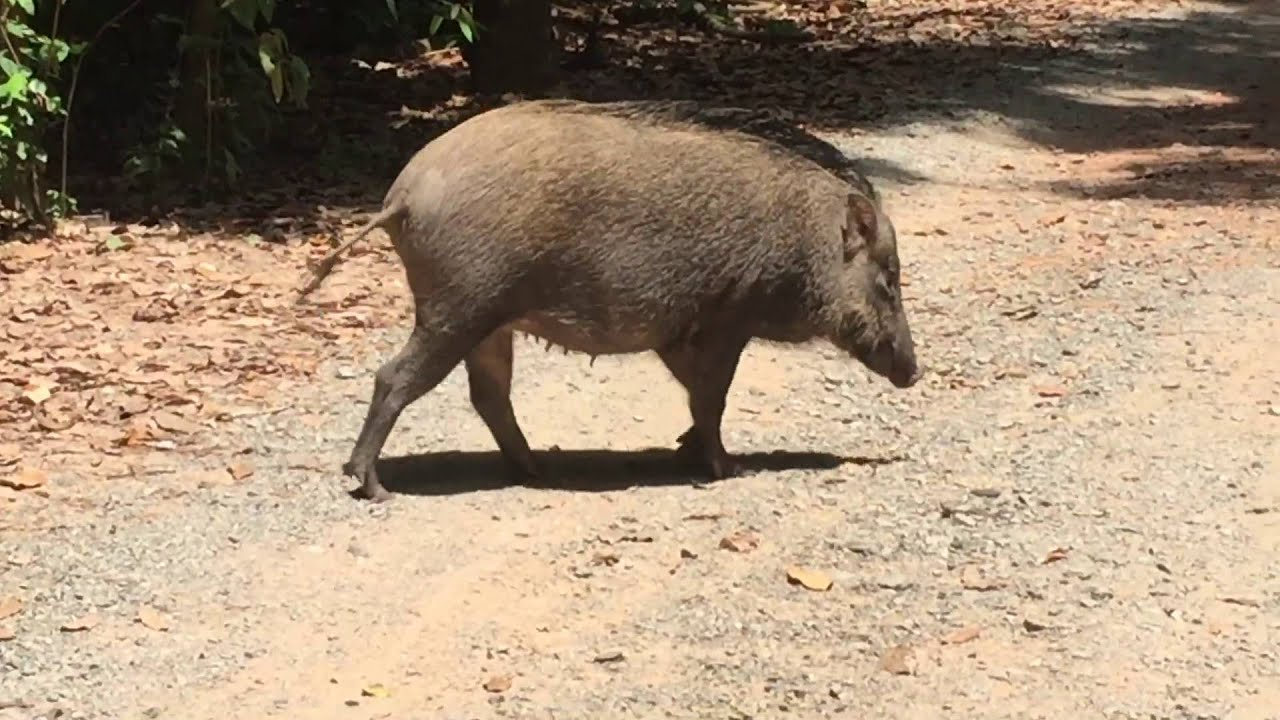boar: (297, 86, 934, 512)
